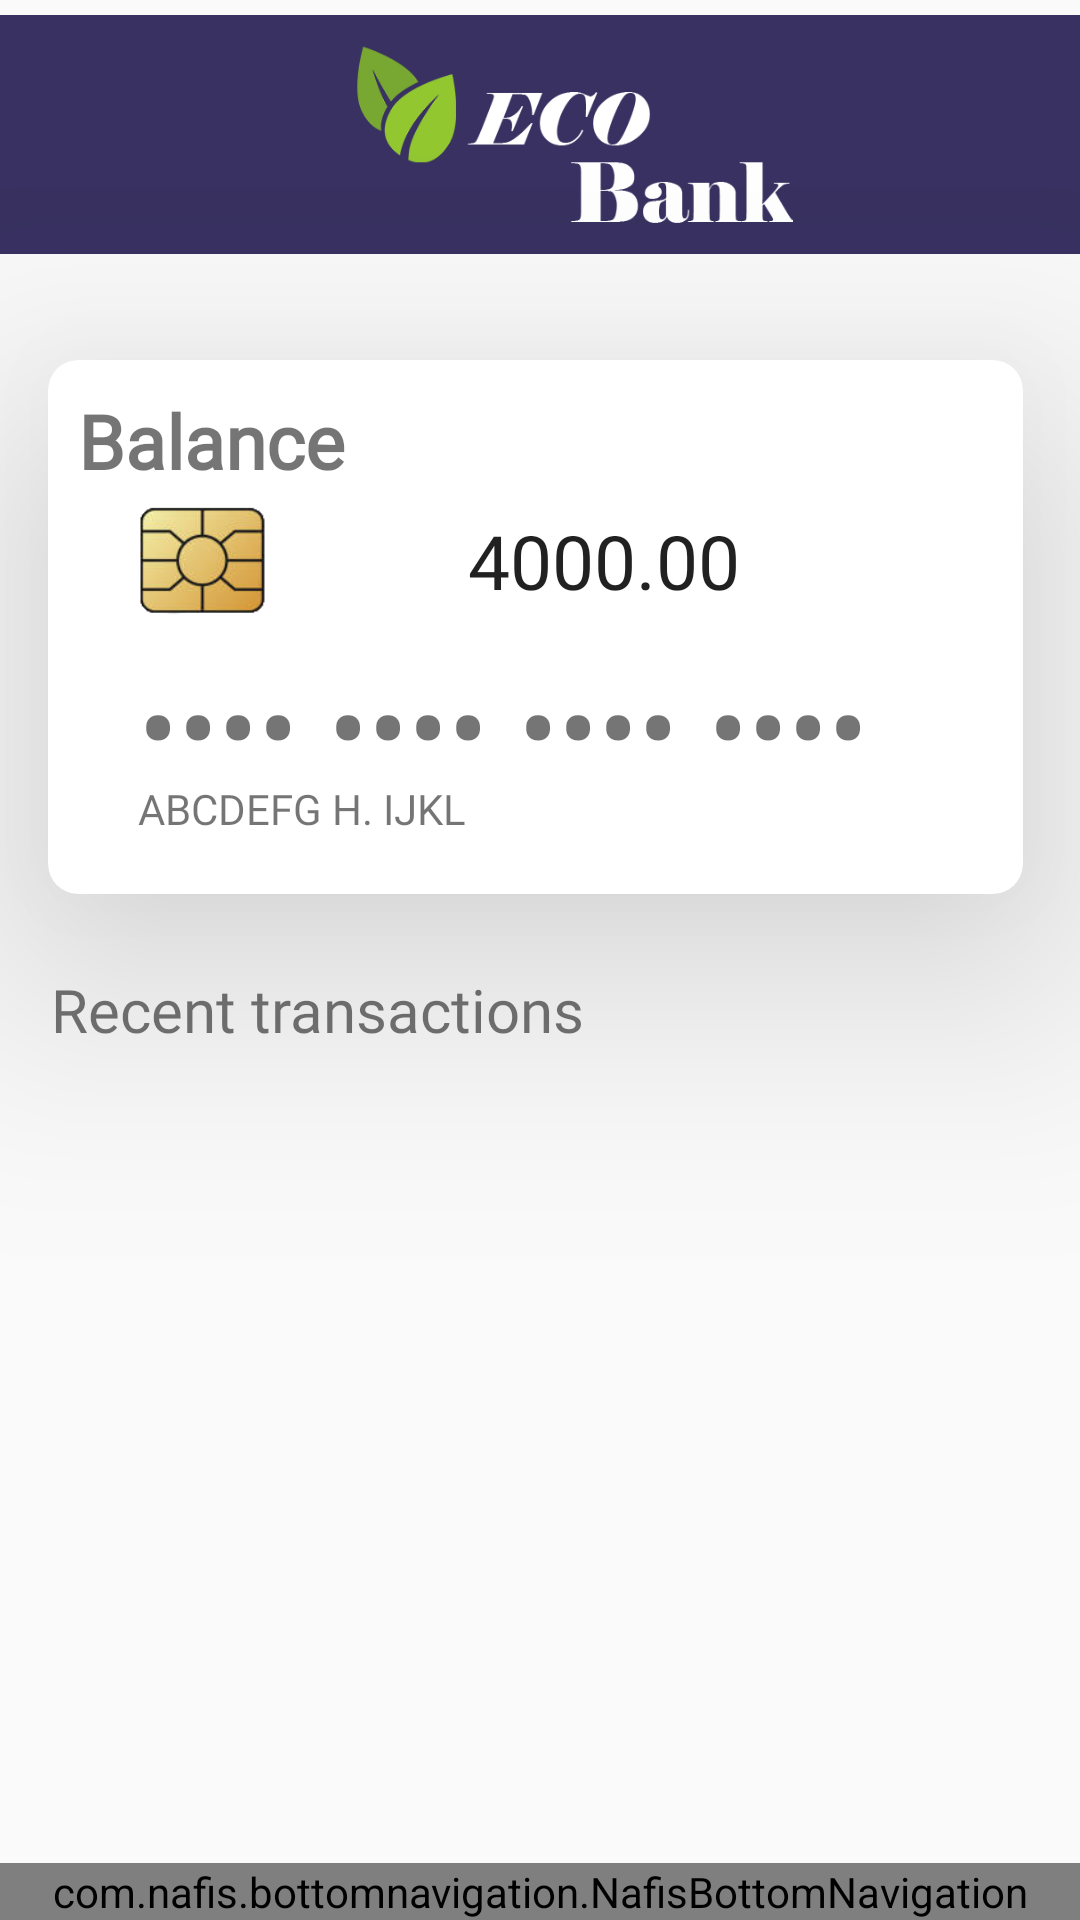

Locate icon controls on the screen. Image size 1080x1920, boxes as [x1=x1, y1=y1, x2=x2, y2=y2].
sim: [x1=140, y1=507, x2=265, y2=614]
